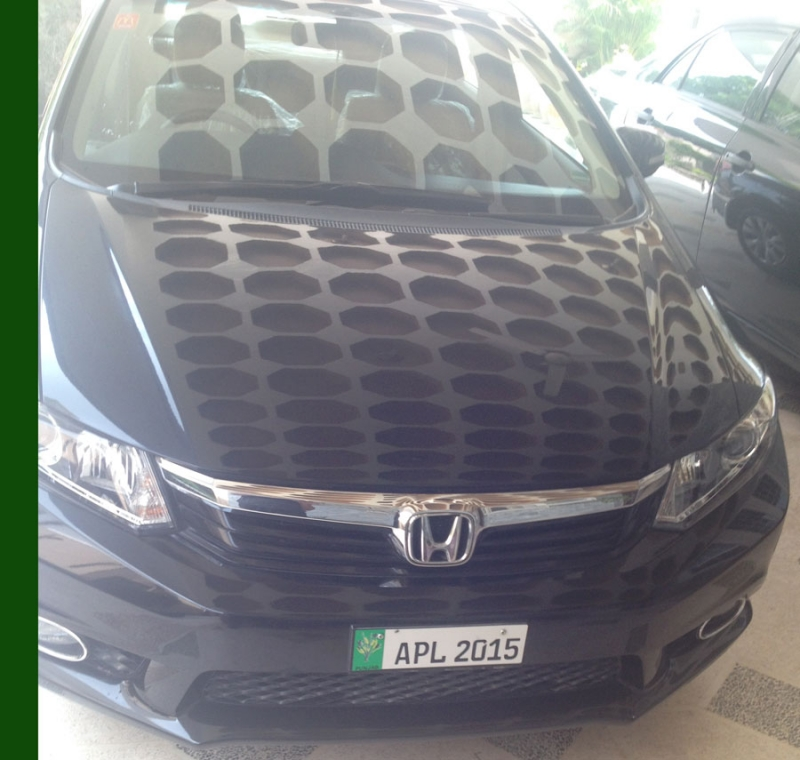plate: (348, 622, 531, 674)
